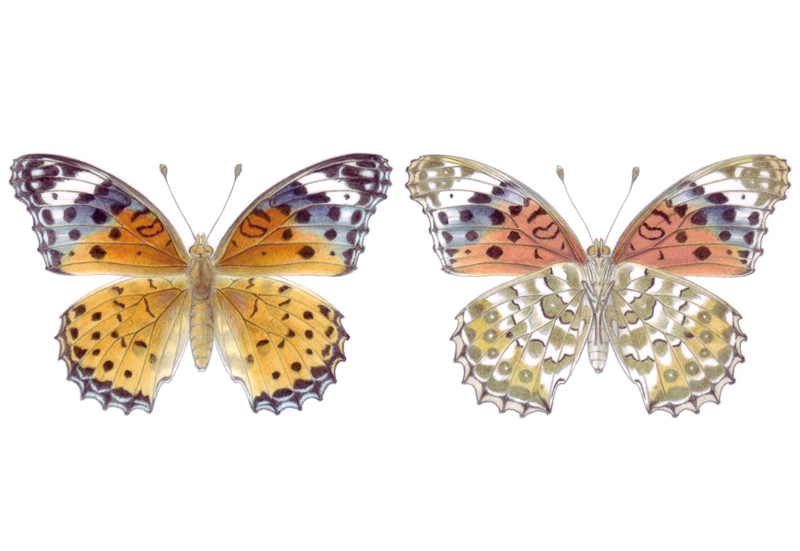Argyreus hyperbius: (401, 142, 798, 424), (3, 143, 394, 417)
butterfly: (403, 144, 800, 426), (5, 145, 396, 419)
